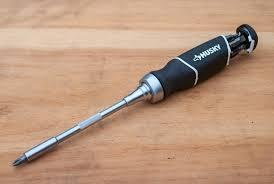screwdriver: (23, 23, 258, 162), (10, 152, 28, 168)
